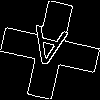A: (25, 25, 69, 77)
